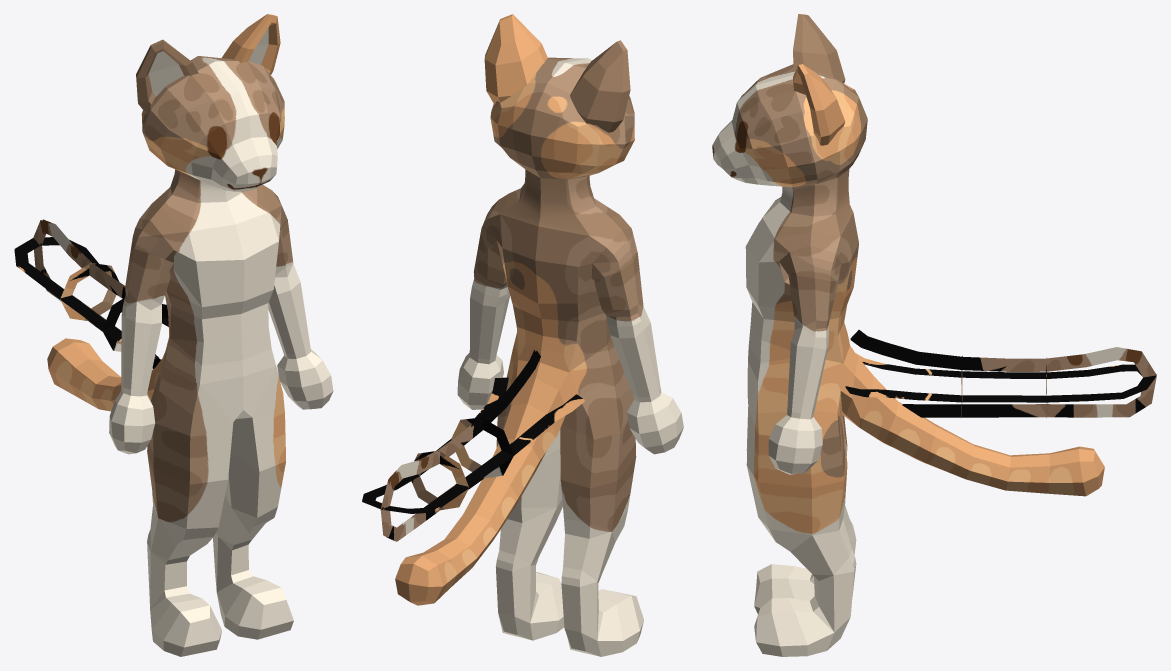
The model's file is CatModel.fbx.
The picture shows the model from 3 angles, left to right: view 1: azimuth 30°, elevation 25°; view 2: azimuth 150°, elevation 25°; view 3: azimuth 270°, elevation 25°; orthographic projection. The views are drawn at different scales.
Visible parts, largest first — view 1: cat_geo, polySurface9, polySurface10, polySurface4, polySurface6, polySurface7; view 2: cat_geo, polySurface9, polySurface10, polySurface6, polySurface4, polySurface7, polySurface8; view 3: cat_geo, polySurface7, polySurface9, polySurface8, polySurface10.
Boxes of the visible parts, x1,y1,x2,y2 form: cat_geo: [47, 14, 333, 656]; polySurface9: [14, 237, 168, 357]; polySurface10: [33, 220, 168, 368]; polySurface4: [60, 263, 119, 321]; polySurface6: [102, 297, 124, 351]; polySurface7: [39, 219, 166, 360]; cat_geo: [395, 14, 683, 656]; polySurface9: [362, 377, 584, 512]; polySurface10: [383, 350, 540, 541]; polySurface6: [451, 417, 513, 478]; polySurface4: [411, 450, 468, 510]; polySurface7: [380, 350, 535, 541]; polySurface8: [362, 379, 584, 513]; cat_geo: [712, 14, 1104, 656]; polySurface7: [850, 331, 1156, 417]; polySurface9: [845, 353, 1156, 401]; polySurface8: [845, 363, 1155, 402]; polySurface10: [850, 330, 1155, 405].
Bounding box in the file's own units: 9.04 × 24.26 × 16.61.
